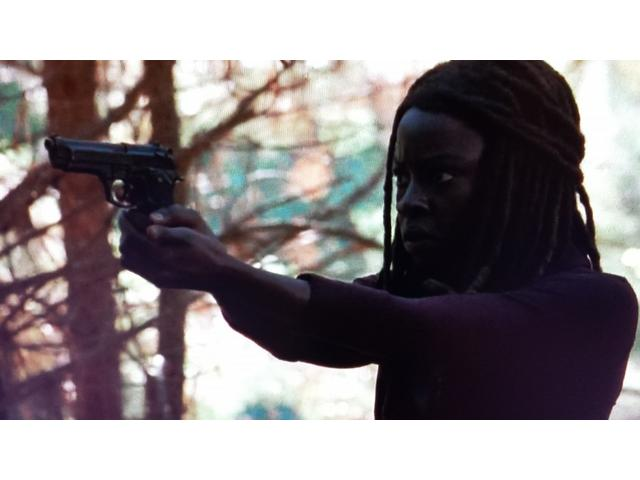pistol: (39, 131, 180, 271)
